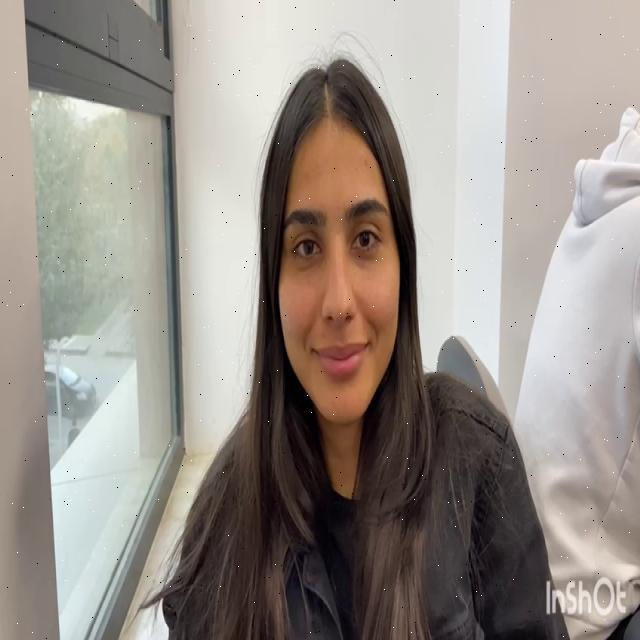happy: (277, 129, 405, 415)
